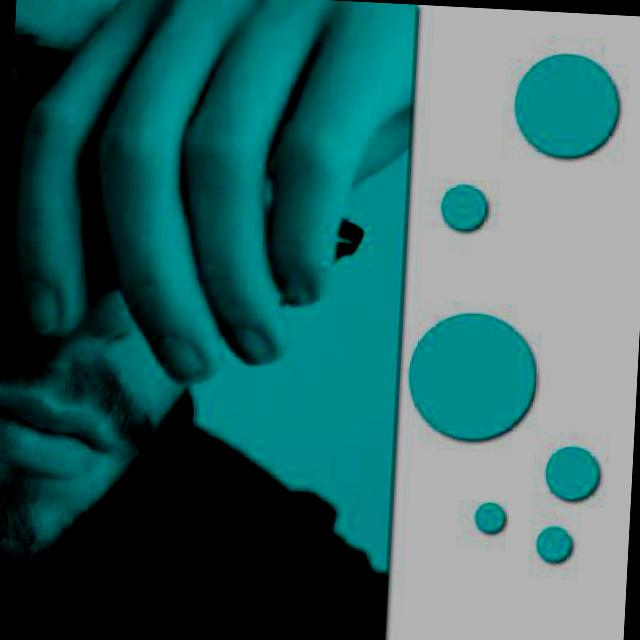Person: (0, 0, 466, 581)
